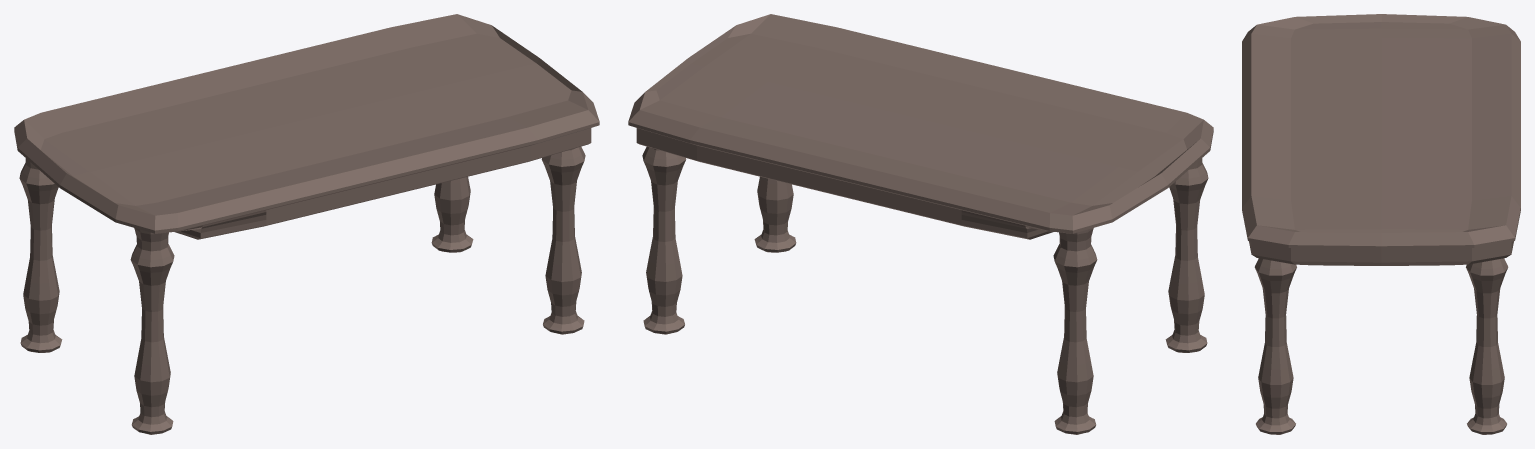
File: Big_Table.fbx
3 renders of one model, left to right at view 1: azimuth 30°, elevation 25°; view 2: azimuth 150°, elevation 25°; view 3: azimuth 270°, elevation 25°, orthographic. The views are drawn at different scales.
Parts seen in each view (by area): view 1: Big_Table; view 2: Big_Table; view 3: Big_Table.
Part boxes in pixels (x1,y1,x2,y2): Big_Table: (14, 14, 599, 434); Big_Table: (628, 14, 1213, 434); Big_Table: (1242, 14, 1520, 434).
Bounding box in the file's own units: 737 × 323 × 385.
